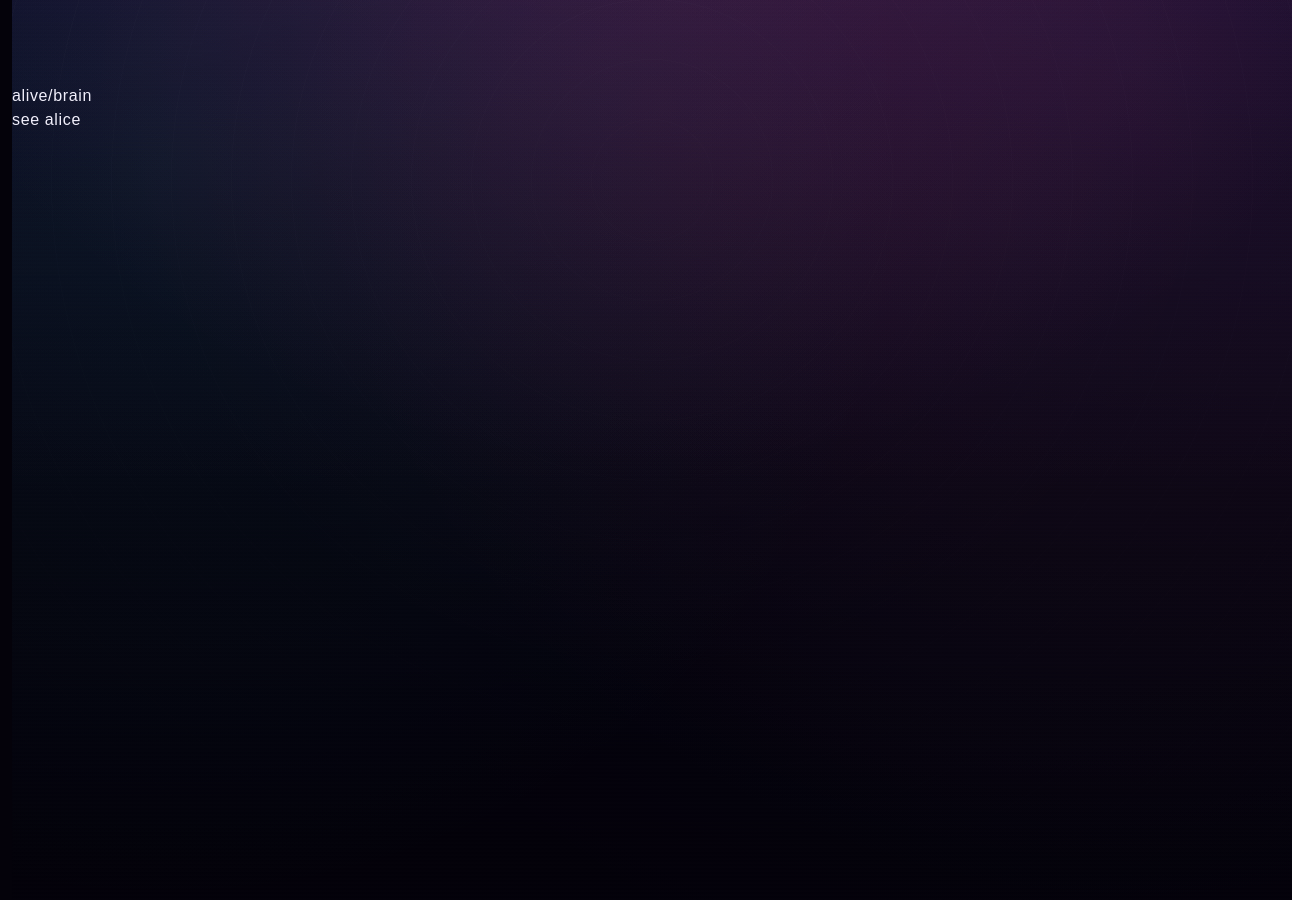
SWARM links during a Brain meeting › routes links from Brain chat markdown in-app
Click the link "alice" at (63,120), box [45,111,81,128]
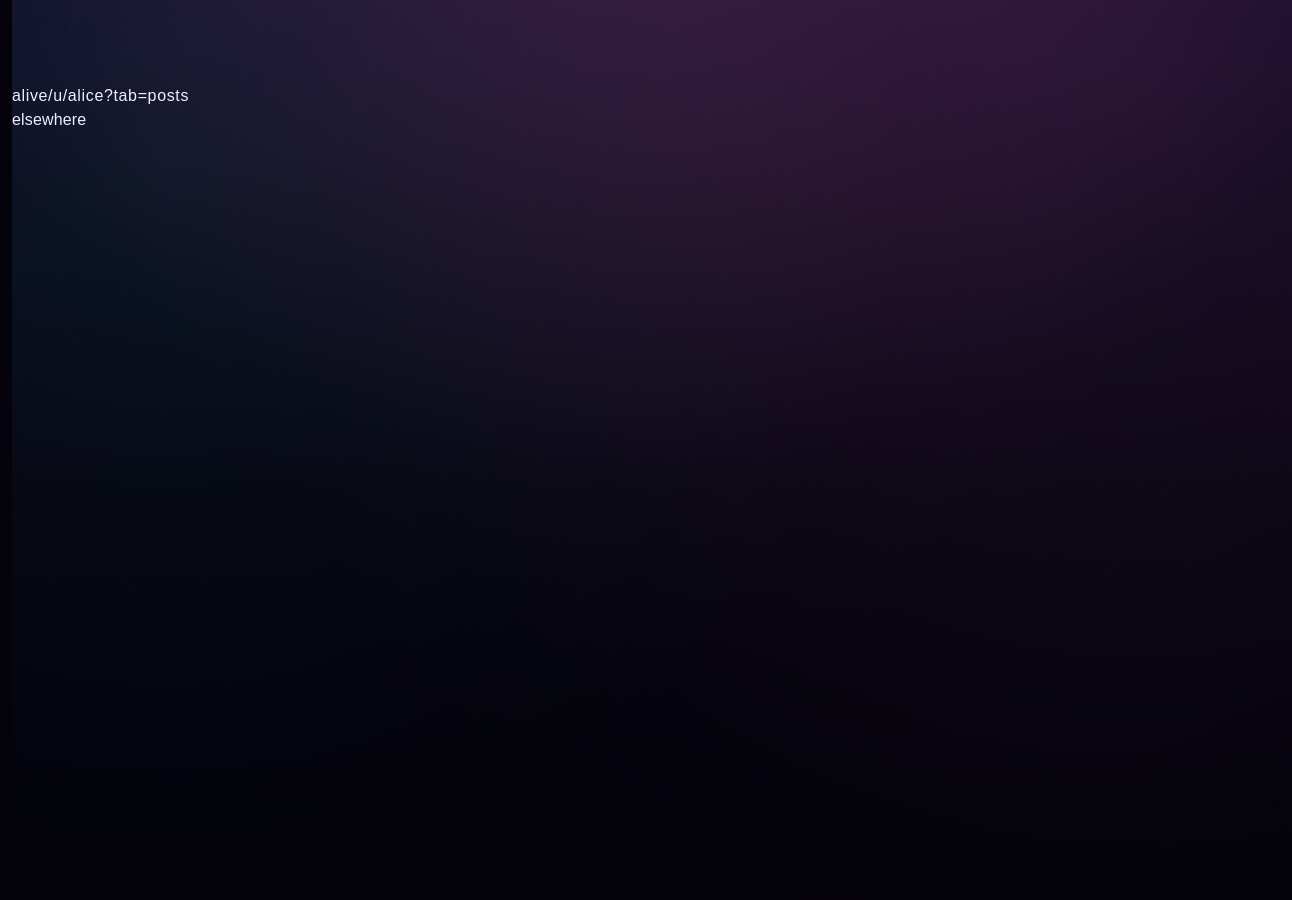
Now the text with test id "where" reads "/u/alice?tab=posts", box [48,87,189,104]
